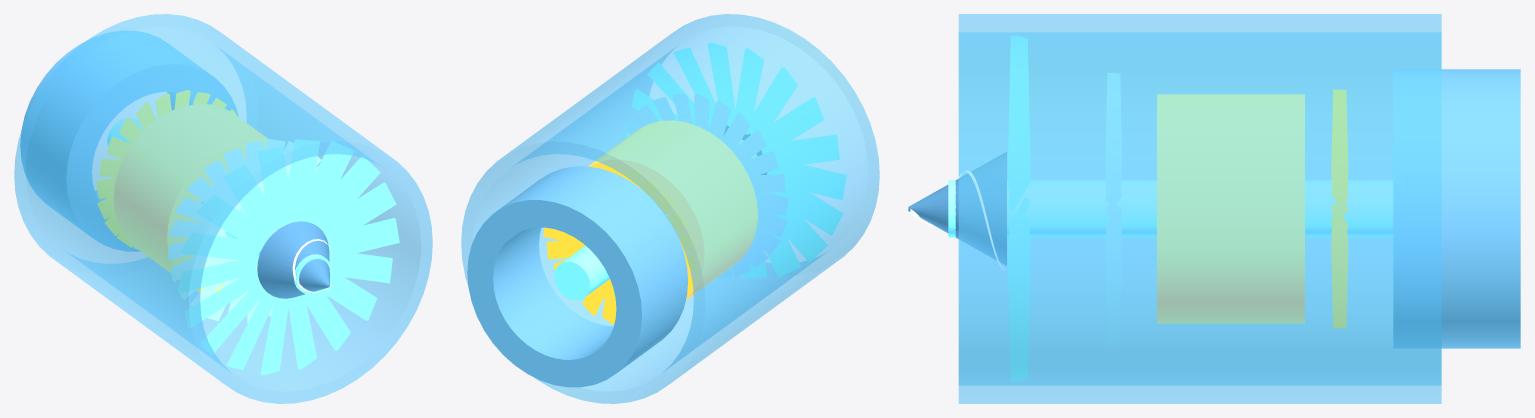
Rendered from turbofan_core.glb.
The picture shows the model from 3 angles, left to right: view 1: azimuth 30°, elevation 25°; view 2: azimuth 150°, elevation 25°; view 3: azimuth 270°, elevation 25°; orthographic projection. The views are drawn at different scales.
Visible parts, largest first — view 1: OuterCowling, FanStage, ExhaustNozzle, CombustorCore, LPCCompressor, SpinnerCone, HPTurbine, CentralShaft; view 2: OuterCowling, ExhaustNozzle, FanStage, CombustorCore, LPCCompressor, HPTurbine, CentralShaft; view 3: OuterCowling, ExhaustNozzle, CombustorCore, CentralShaft, FanStage, SpinnerCone, LPCCompressor, HPTurbine.
Part boxes in pixels (bbox=[...]): OuterCowling: bbox=[14, 14, 432, 403]; FanStage: bbox=[178, 139, 399, 375]; ExhaustNozzle: bbox=[20, 31, 238, 251]; CombustorCore: bbox=[114, 104, 267, 292]; LPCCompressor: bbox=[167, 139, 321, 322]; SpinnerCone: bbox=[257, 221, 330, 298]; HPTurbine: bbox=[96, 90, 236, 249]; CentralShaft: bbox=[107, 118, 332, 294]; OuterCowling: bbox=[461, 14, 879, 403]; ExhaustNozzle: bbox=[467, 166, 687, 387]; FanStage: bbox=[625, 43, 846, 278]; CombustorCore: bbox=[588, 120, 757, 299]; LPCCompressor: bbox=[619, 94, 788, 278]; HPTurbine: bbox=[543, 164, 696, 324]; CentralShaft: bbox=[554, 140, 756, 300]; OuterCowling: bbox=[958, 14, 1441, 403]; ExhaustNozzle: bbox=[1393, 69, 1520, 348]; CombustorCore: bbox=[1157, 94, 1304, 323]; CentralShaft: bbox=[948, 180, 1392, 237]; FanStage: bbox=[1008, 36, 1029, 381]; SpinnerCone: bbox=[908, 152, 1006, 265]; LPCCompressor: bbox=[1106, 73, 1121, 344]; HPTurbine: bbox=[1331, 90, 1347, 327].
Size of the model in its own units: 1.9 by 1.9 by 2.98.
